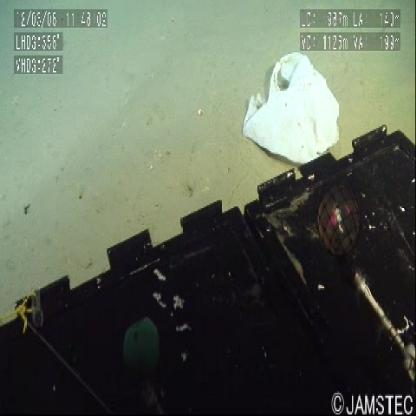Rov: (1, 102, 413, 413)
Rác: (220, 35, 355, 171)
